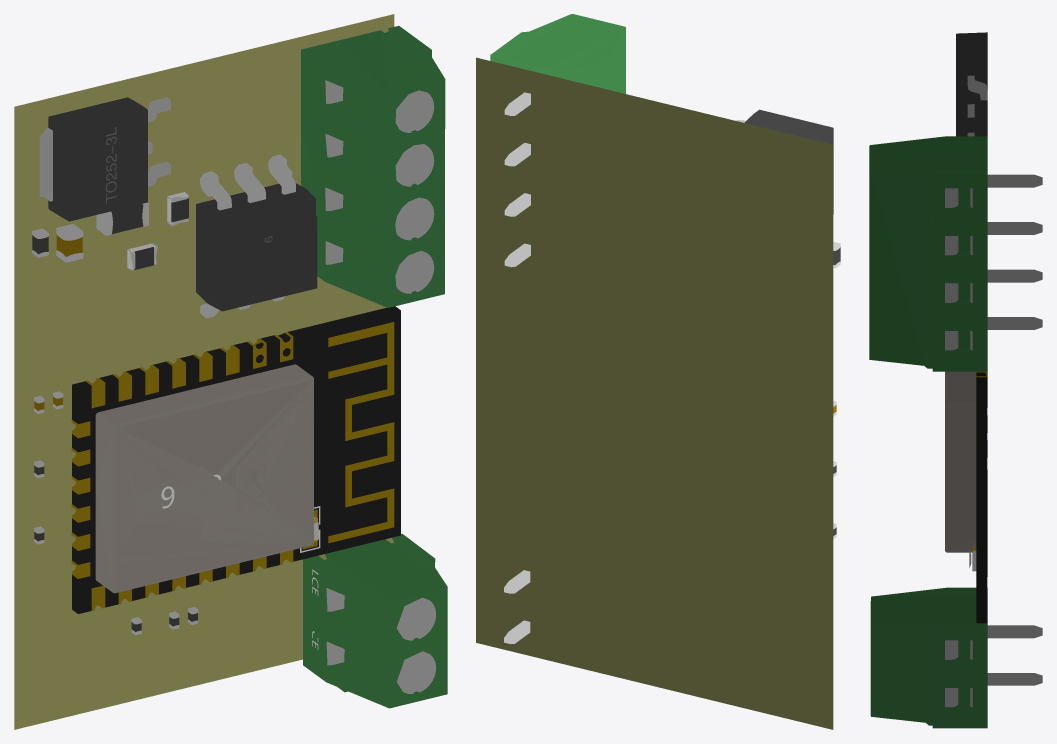
Rendered from OBJ_PCB_cloud-sync-esp8266-light_switch_module_v1.obj.
3 views of the same model, side by side, from view 1: azimuth 30°, elevation 25°; view 2: azimuth 150°, elevation 25°; view 3: azimuth 270°, elevation 25° (orthographic). The views are drawn at different scales.
Size of the model in its own units: 111 by 175 by 49.61.
